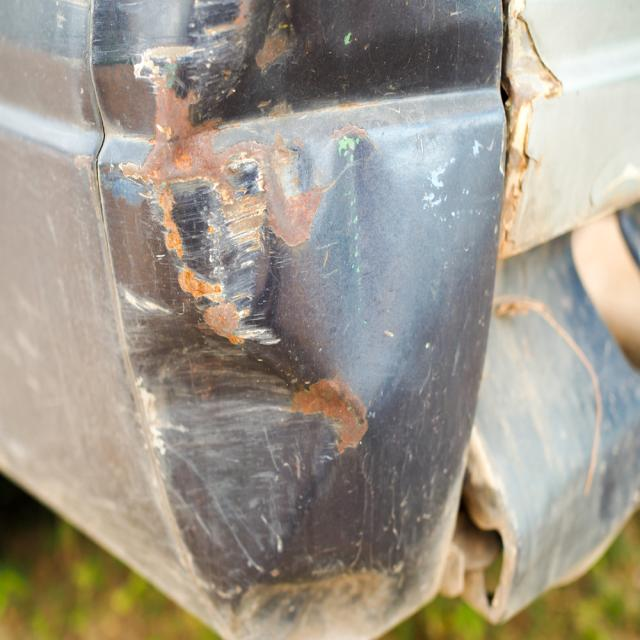dent: (146, 131, 410, 580)
scratch: (139, 0, 316, 329)
